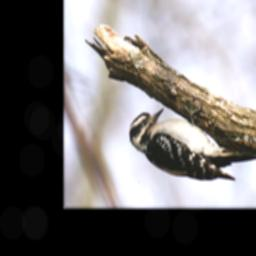Woodpecker: (120, 105, 256, 188)
